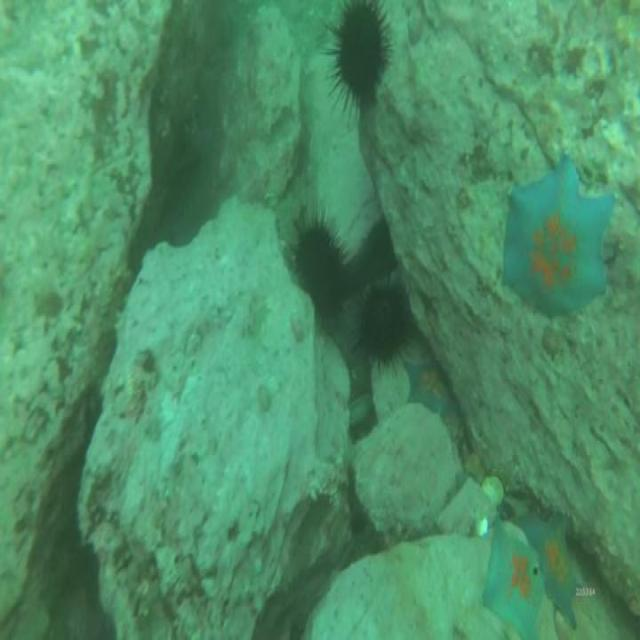echinus: (294, 222, 350, 314), (336, 0, 385, 103), (361, 276, 408, 362)
starfish: (503, 158, 614, 314), (520, 507, 580, 626), (484, 523, 545, 640), (407, 360, 458, 416)
